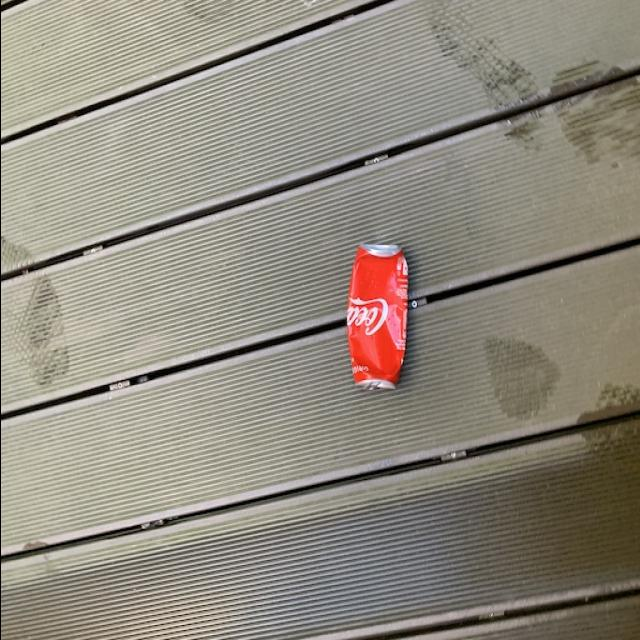litter: (338, 227, 404, 395)
